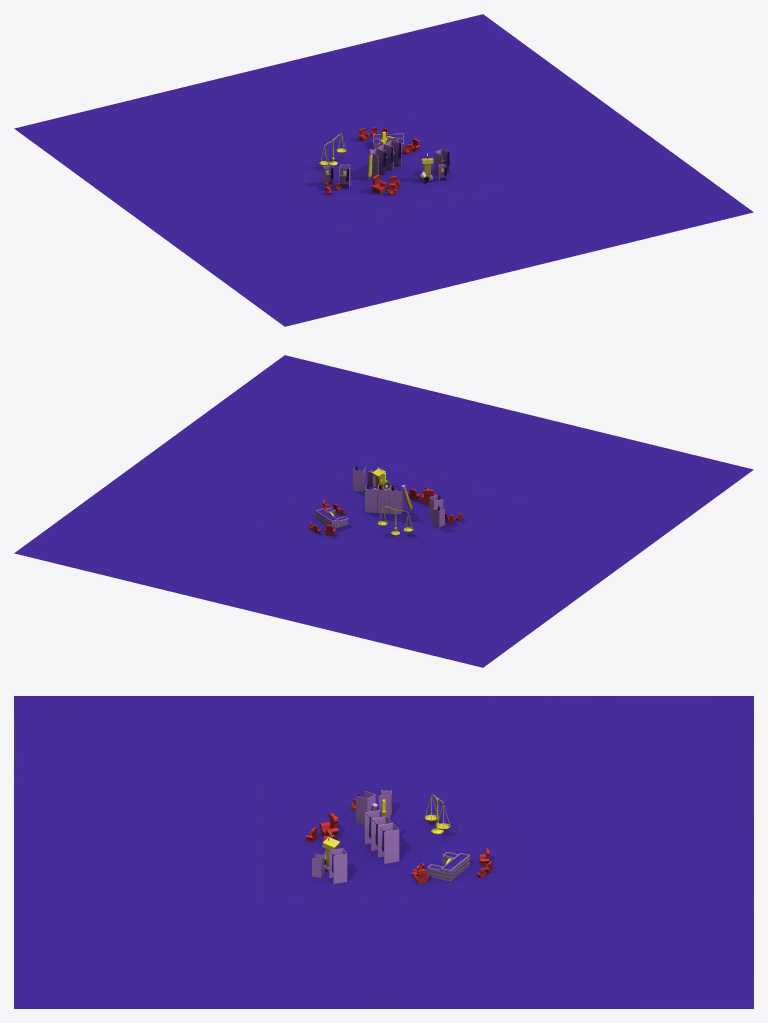
Rendered from 00-start.glb.
The picture shows the model from 3 angles, top to bottom: view 1: azimuth 30°, elevation 25°; view 2: azimuth 150°, elevation 25°; view 3: azimuth 270°, elevation 25°; orthographic projection. The views are drawn at different scales.
Parts seen in each view (by area): view 1: GEO.Static, GEO.Booths; view 2: GEO.Static, GEO.Booths; view 3: GEO.Static, GEO.Booths.
Part boxes in pixels (bbox=[...]): GEO.Static: bbox=[14, 14, 753, 326]; GEO.Booths: bbox=[367, 140, 401, 179]; GEO.Static: bbox=[14, 355, 753, 667]; GEO.Booths: bbox=[365, 484, 412, 514]; GEO.Static: bbox=[14, 696, 753, 1008]; GEO.Booths: bbox=[364, 803, 399, 863].
Bounding box in the file's own units: 20 × 1.56 × 20.
2 materials, 1 textured.
